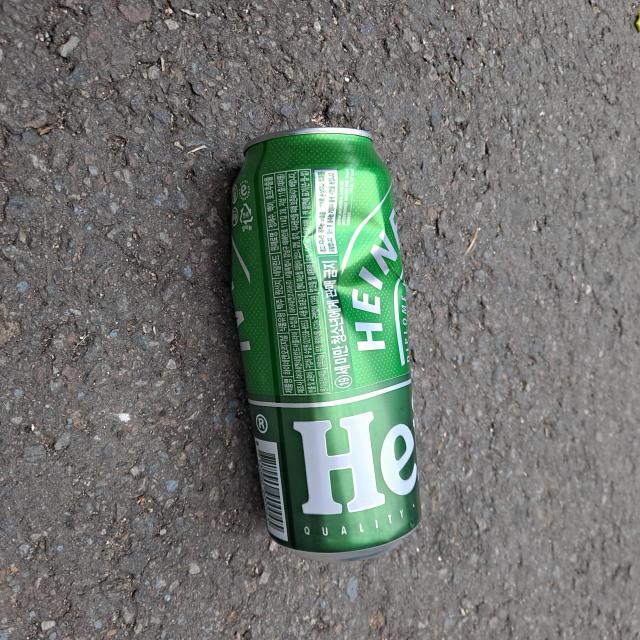can: (231, 127, 421, 562)
